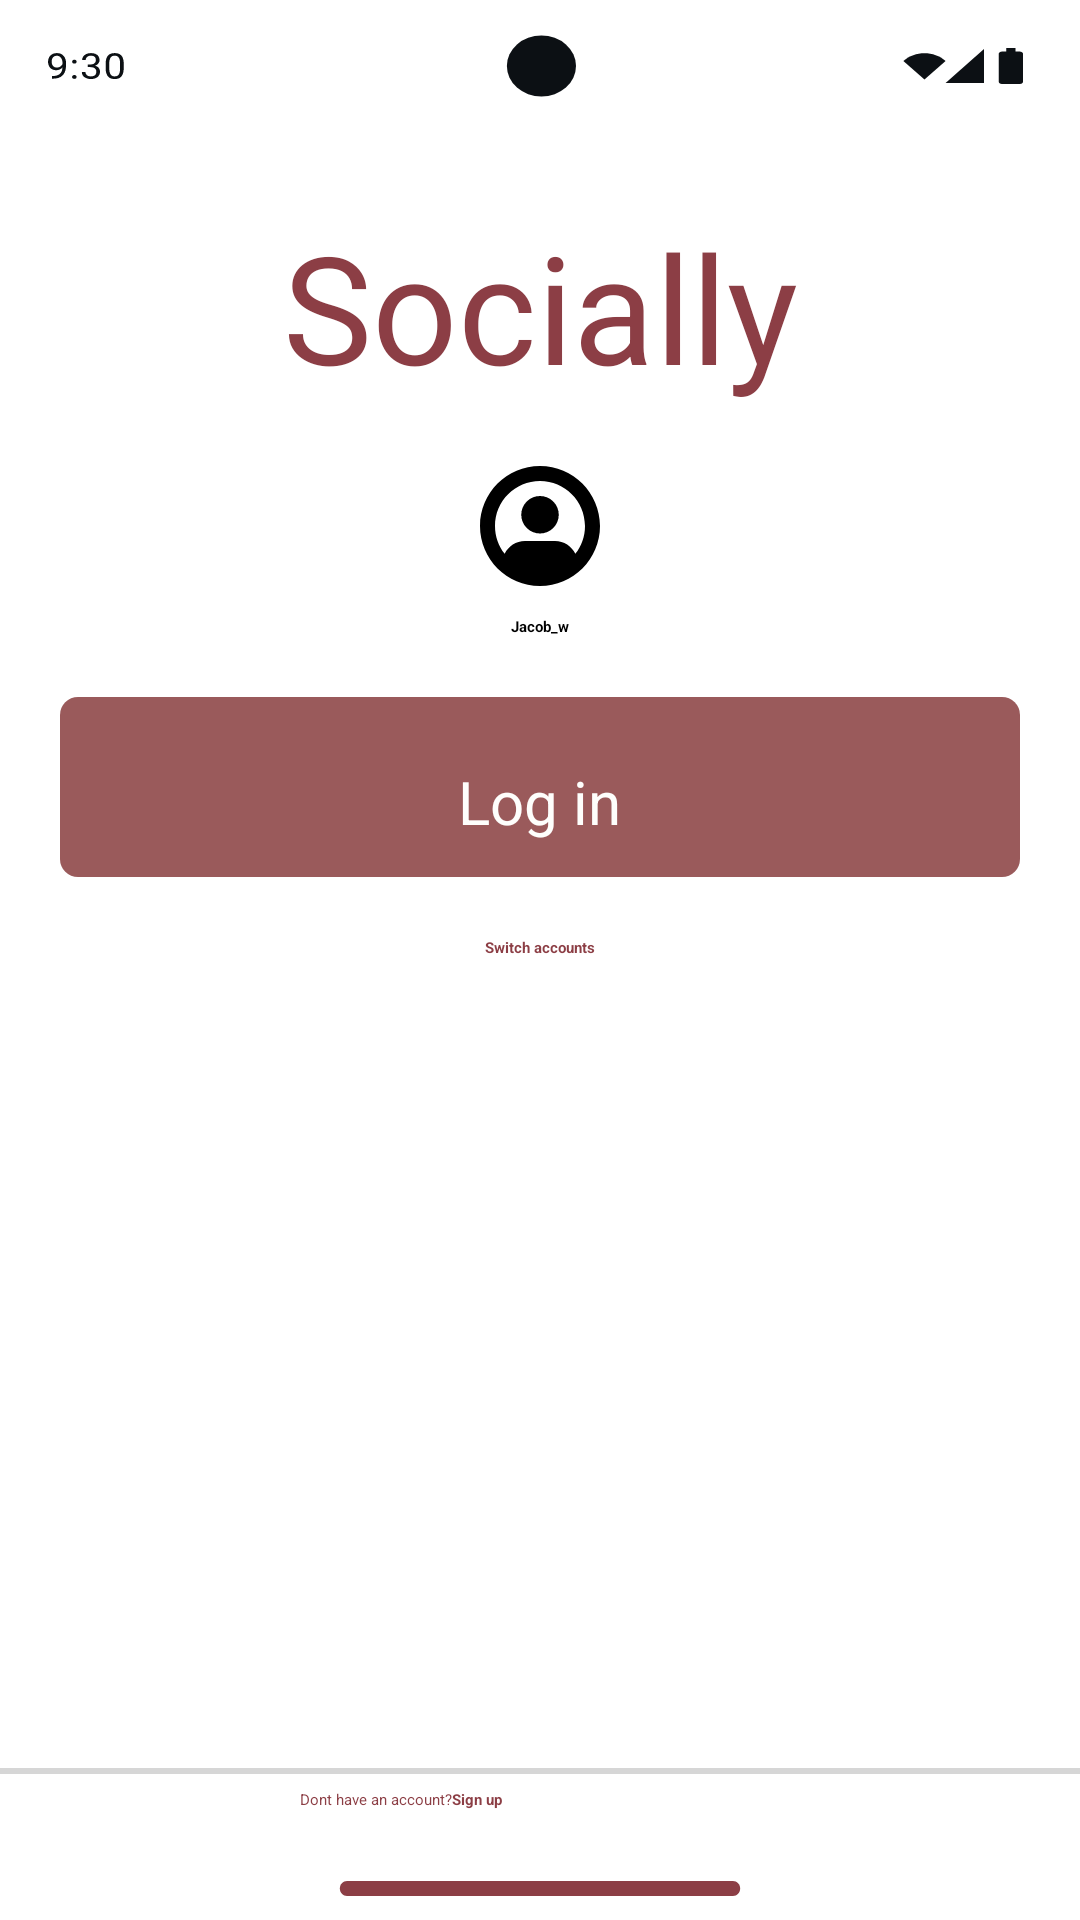

Locate icon controls on the screen. Image size 1080×1920, boxes as region(x1, y1, x2, y2).
profile: region(480, 466, 600, 586)
